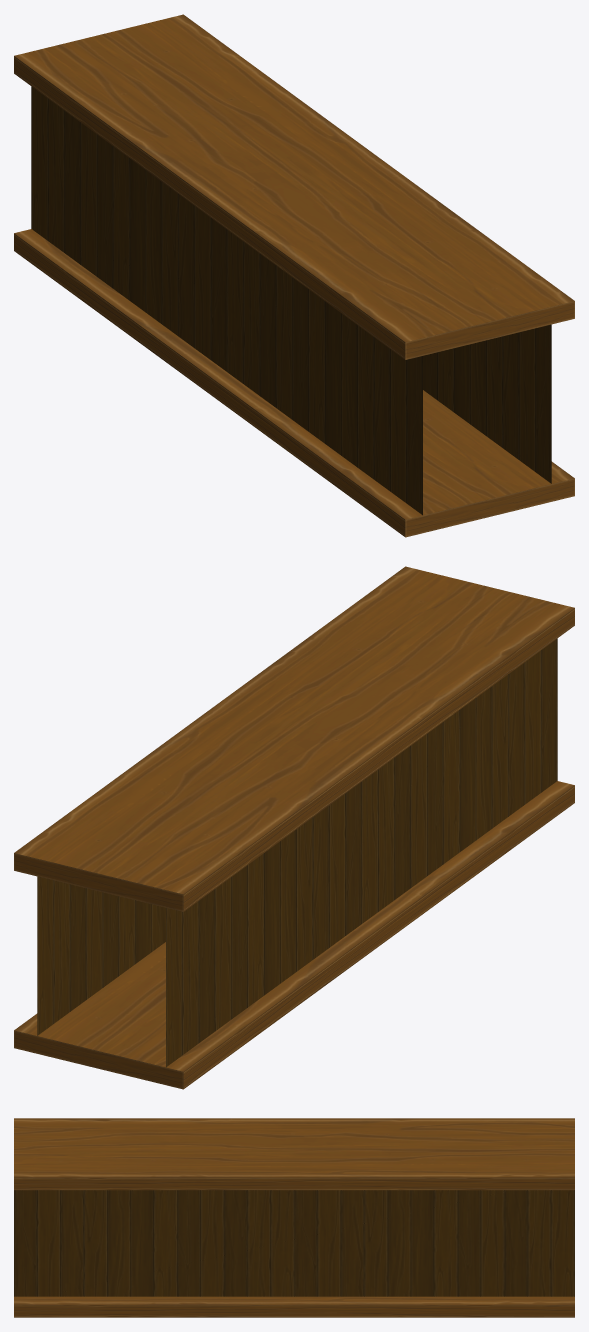
File: SM_Bar_Main.fbx
3 views of the same model, one above another, from view 1: azimuth 30°, elevation 25°; view 2: azimuth 150°, elevation 25°; view 3: azimuth 270°, elevation 25° (orthographic). The views are drawn at different scales.
Visible parts, largest first — view 1: SM_Bar_Main_LOD0; view 2: SM_Bar_Main_LOD0; view 3: SM_Bar_Main_LOD0.
Boxes of the visible parts, x1,y1,x2,y2 form: SM_Bar_Main_LOD0: (14, 14, 574, 537); SM_Bar_Main_LOD0: (14, 566, 574, 1089); SM_Bar_Main_LOD0: (14, 1118, 574, 1317).
Size of the model in its own units: 100 by 400 by 110.
